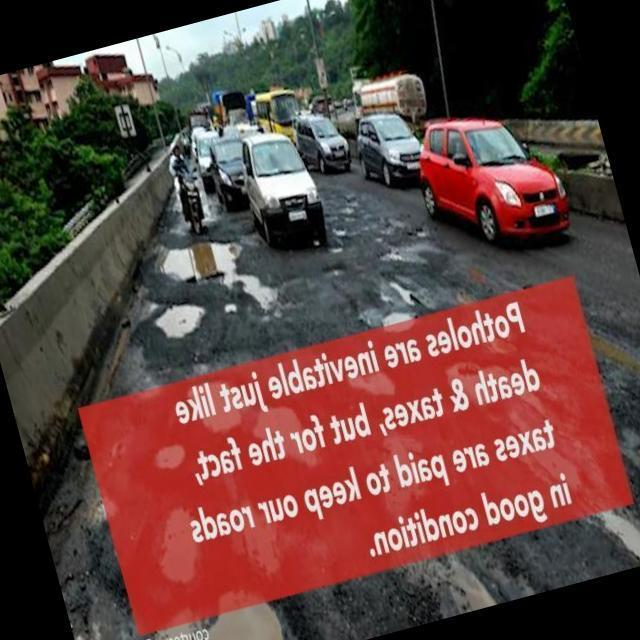Pothole: (506, 413, 640, 564), (378, 504, 500, 619), (161, 244, 280, 313), (202, 584, 295, 640), (163, 504, 199, 583), (156, 302, 207, 343), (341, 360, 396, 397), (152, 599, 199, 640), (381, 241, 455, 264), (381, 277, 414, 305)
